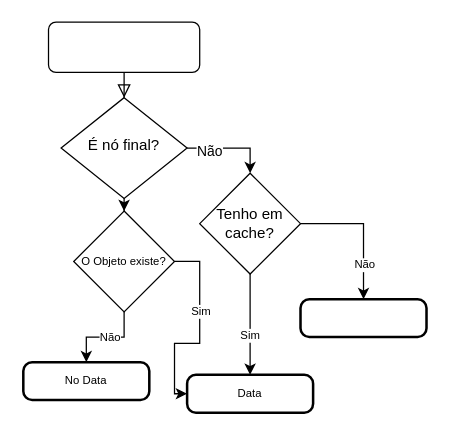
Image size: 449x436. Some labels were removed from this diagram. Here are the shapes that lost their labels. From the top down, the centre of each, then its label:
[123,46]: Interest
[363,317]: Interest no próximo nó
